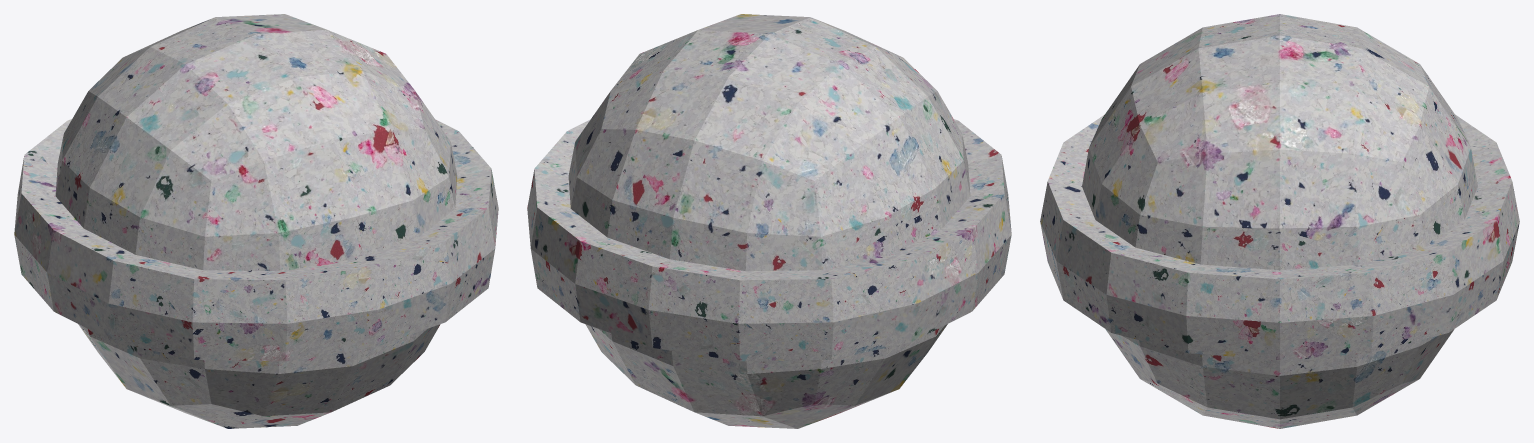
File: JawBreaker.glb
3 renders of one model, left to right at view 1: azimuth 30°, elevation 25°; view 2: azimuth 150°, elevation 25°; view 3: azimuth 270°, elevation 25°, orthographic.
Visible parts, largest first — view 1: Jawbreaker; view 2: Jawbreaker; view 3: Jawbreaker.
Part boxes in pixels (x1=…): Jawbreaker: x1=14, y1=14, x2=498, y2=428; Jawbreaker: x1=527, y1=14, x2=1011, y2=428; Jawbreaker: x1=1040, y1=14, x2=1519, y2=428.
Size of the model in its own units: 75.98 by 64.95 by 75.98.
1 material, 1 textured.
